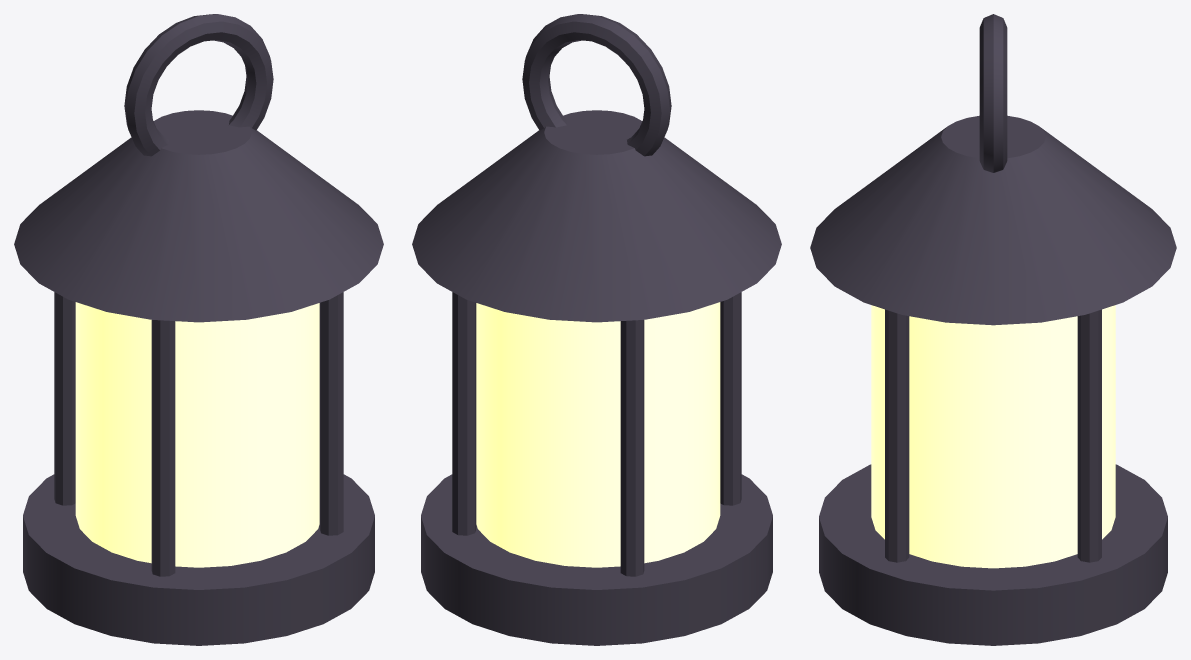
File: lantern.glb
3 views of the same model, side by side, from view 1: azimuth 30°, elevation 25°; view 2: azimuth 150°, elevation 25°; view 3: azimuth 270°, elevation 25° (orthographic).
Visible parts, largest first — view 1: Cone, Cylinder.001, Cylinder, Torus, Cylinder.004, Cylinder.005, Cylinder.003; view 2: Cone, Cylinder.001, Cylinder, Torus, Cylinder.003, Cylinder.002, Cylinder.004; view 3: Cone, Cylinder.001, Cylinder, Cylinder.002, Cylinder.005, Torus.
Part boxes in pixels (x1,y1,x2,y2): Cone: (14, 110, 383, 322); Cylinder.001: (75, 302, 319, 567); Cylinder: (23, 474, 374, 645); Torus: (124, 14, 273, 156); Cylinder.004: (151, 320, 175, 576); Cylinder.005: (319, 292, 343, 535); Cylinder.003: (54, 292, 75, 505); Cone: (412, 110, 781, 322); Cylinder.001: (476, 302, 720, 567); Cylinder: (421, 474, 772, 645); Torus: (522, 14, 671, 156); Cylinder.003: (620, 320, 644, 576); Cylinder.002: (452, 292, 476, 535); Cylinder.004: (720, 292, 741, 505); Cone: (810, 115, 1176, 325); Cylinder.001: (871, 305, 1115, 568); Cylinder: (819, 464, 1167, 645); Cylinder.002: (1077, 309, 1101, 562); Cylinder.005: (885, 309, 909, 562); Torus: (979, 14, 1007, 172).
Size of the model in its own units: 0.21 by 0.348 by 0.21.
